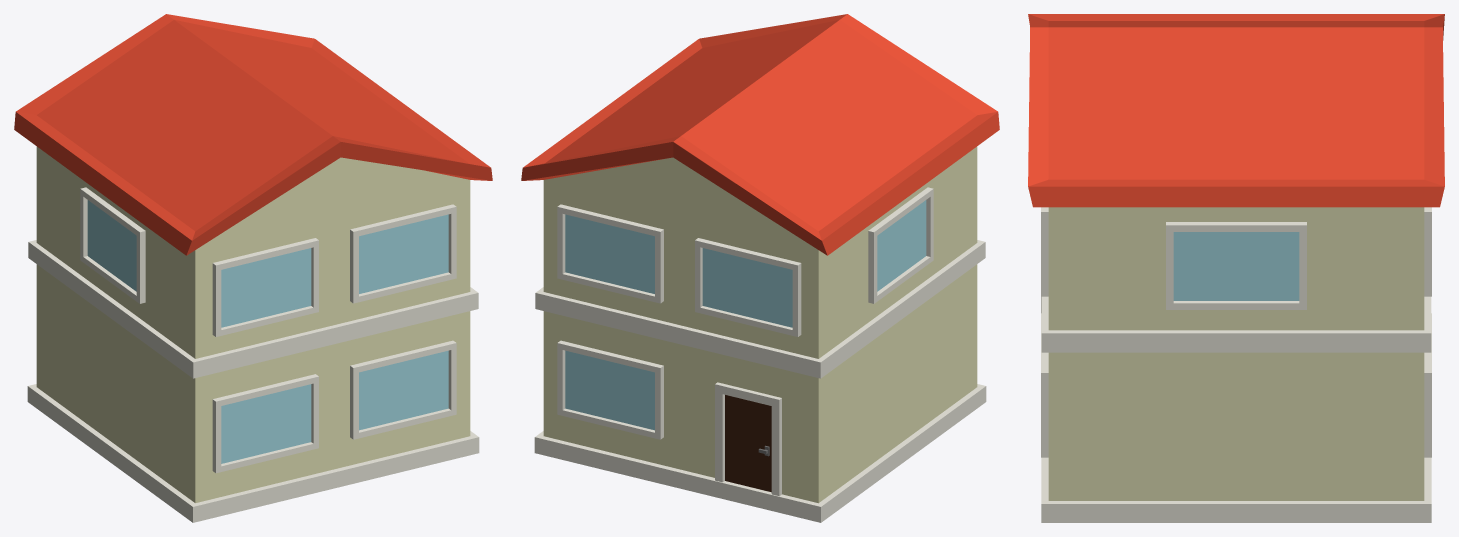
3 renders of one model, left to right at view 1: azimuth 30°, elevation 25°; view 2: azimuth 150°, elevation 25°; view 3: azimuth 270°, elevation 25°, orthographic. The views are drawn at different scales.
Parts seen in each view (by area): view 1: Square-2; view 2: Square-2; view 3: Square-2.
Boxes of the visible parts, x1,y1,x2,y2 form: Square-2: (14, 14, 492, 522); Square-2: (521, 14, 999, 522); Square-2: (1028, 14, 1444, 522).
Size of the model in its own units: 7.41 by 8.08 by 7.39.
